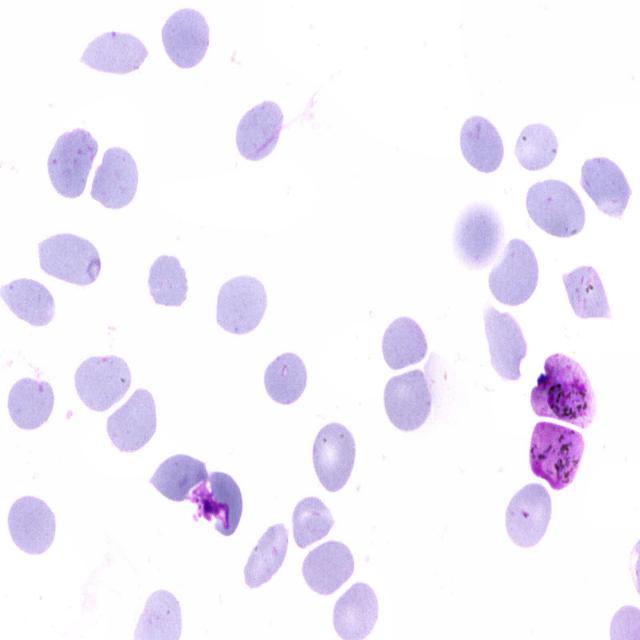difficult: (528, 418, 588, 493)
red blood cell: (71, 349, 136, 413), (486, 235, 540, 309), (311, 417, 358, 497), (47, 126, 96, 202), (527, 176, 587, 238), (501, 482, 556, 548), (36, 233, 103, 287), (107, 384, 158, 454), (89, 143, 140, 212), (454, 201, 504, 270), (5, 492, 58, 557), (382, 368, 434, 434), (300, 537, 356, 598), (456, 112, 508, 177), (161, 7, 212, 72), (78, 30, 150, 76), (484, 306, 528, 381), (145, 454, 210, 504), (580, 154, 633, 215), (242, 523, 290, 590), (216, 275, 268, 334), (380, 312, 430, 373), (261, 347, 310, 408), (6, 373, 56, 432), (236, 102, 284, 163), (201, 470, 243, 536), (563, 265, 611, 322), (510, 120, 560, 174), (0, 277, 56, 325), (146, 251, 190, 312), (293, 491, 335, 549)
trophozoite: (532, 354, 598, 426)
